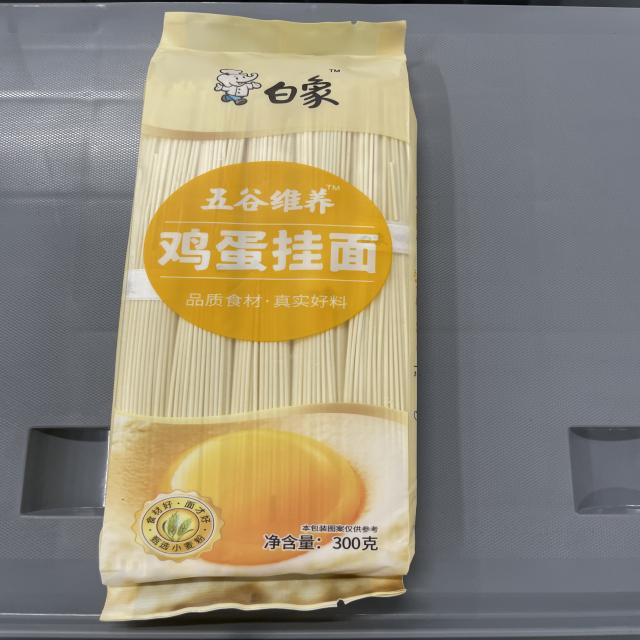object_name: (135, 19, 406, 599)
